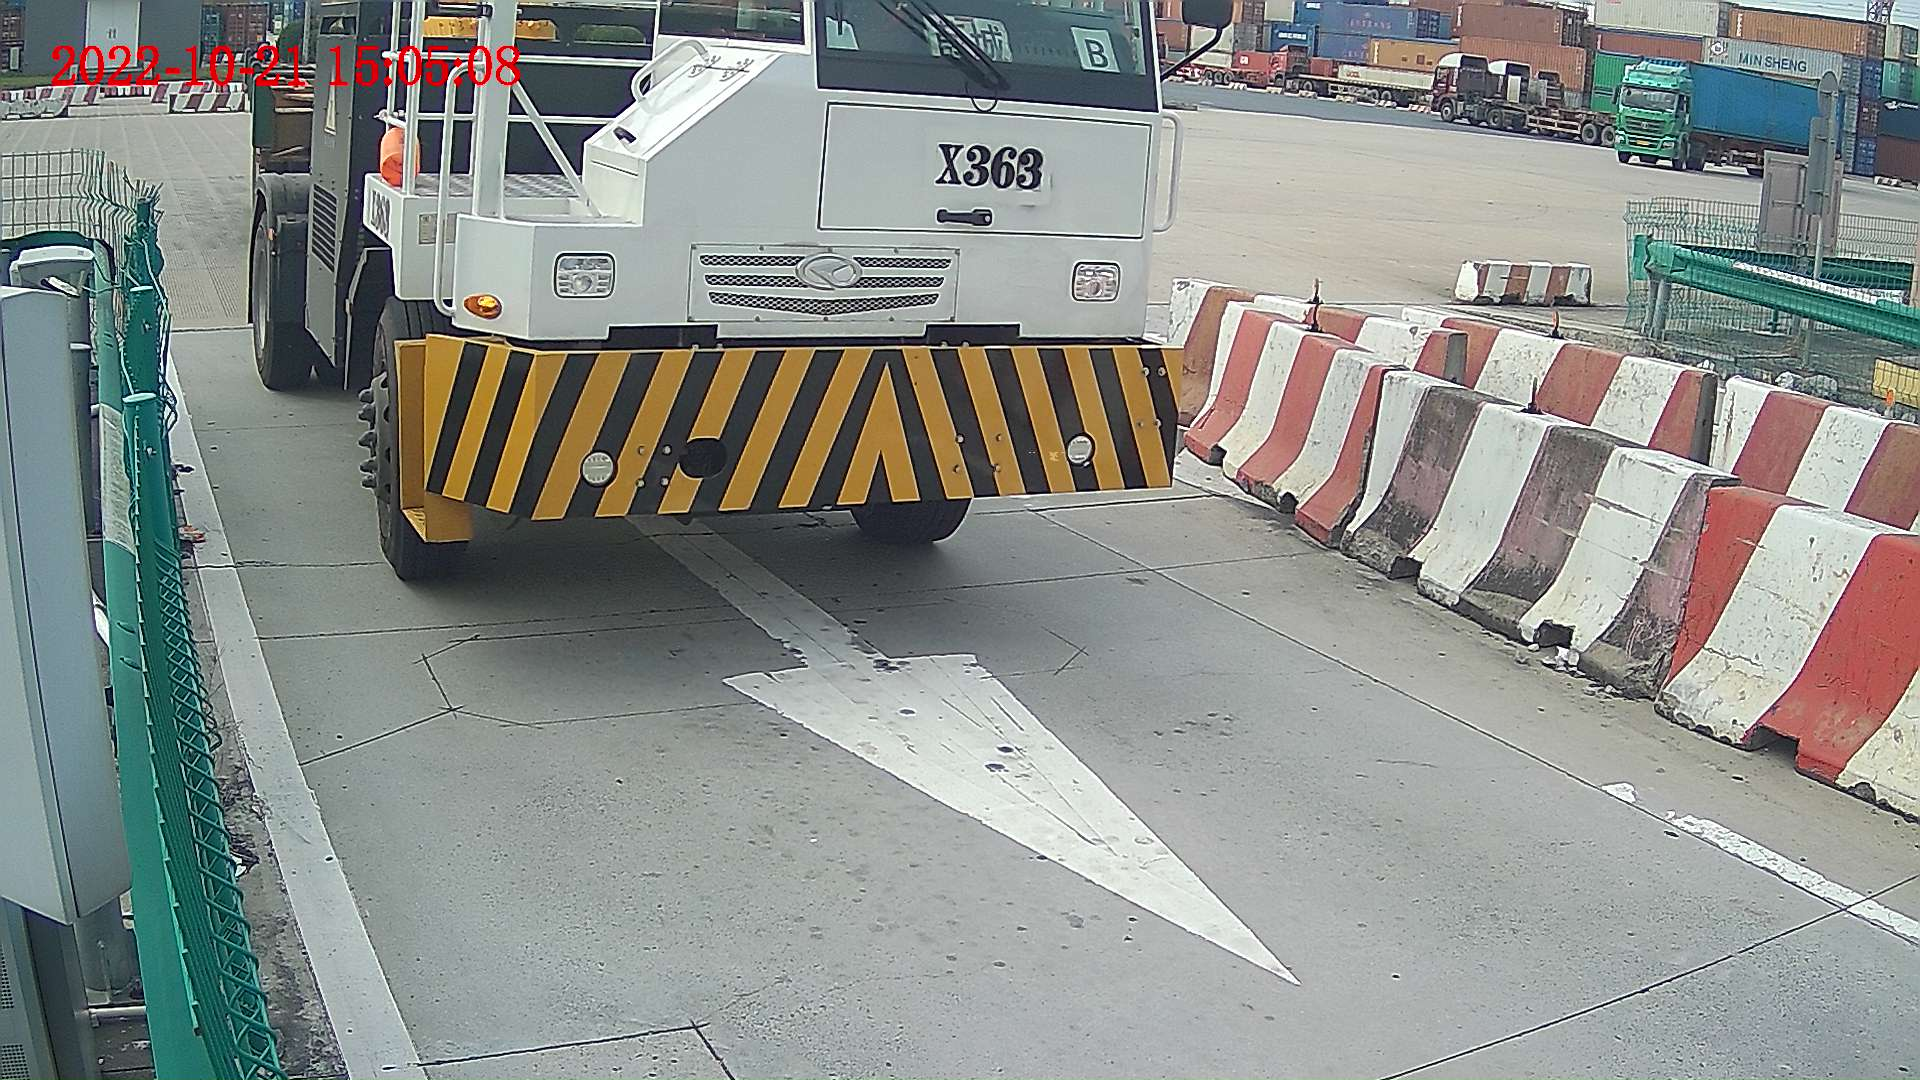head: (378, 1, 1183, 577)
